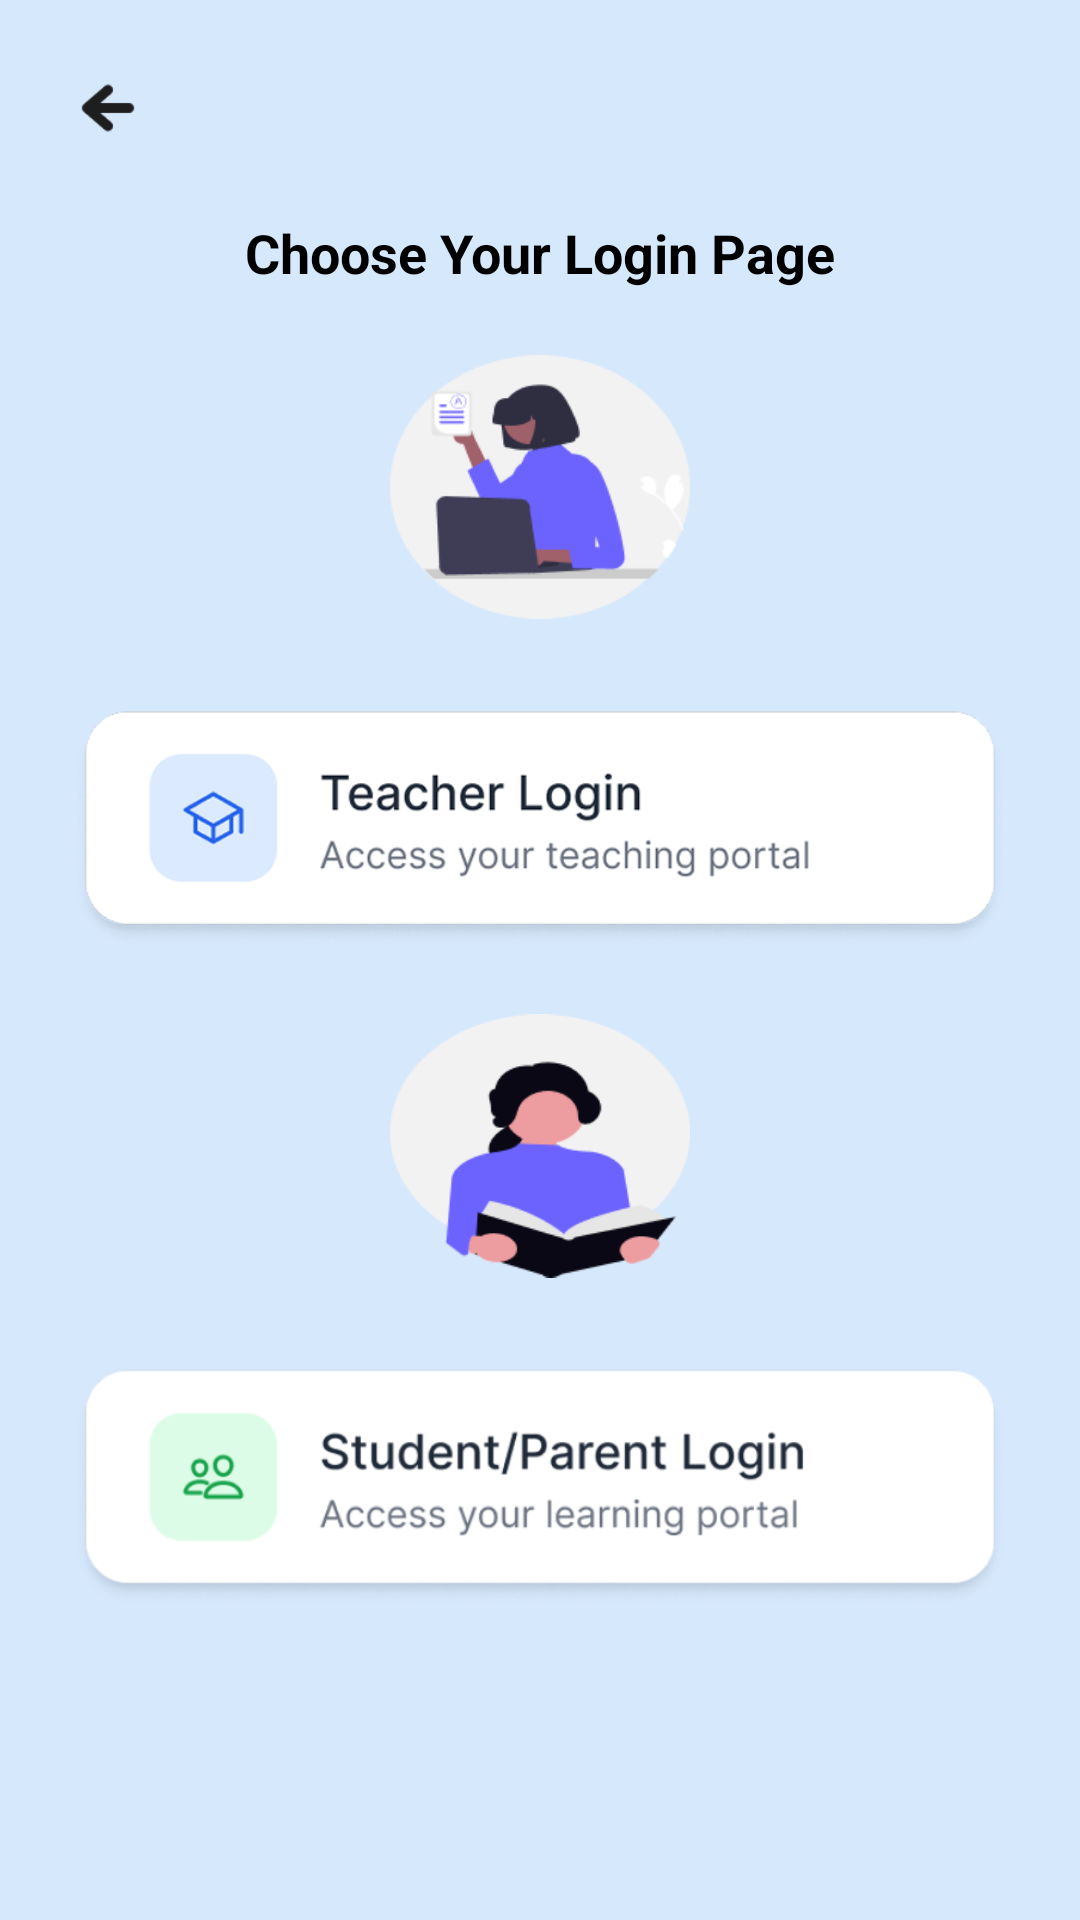

Where to tap for icons on this 1080w x 1920h app screen, as point (x, y):
Back: point (108, 108)
